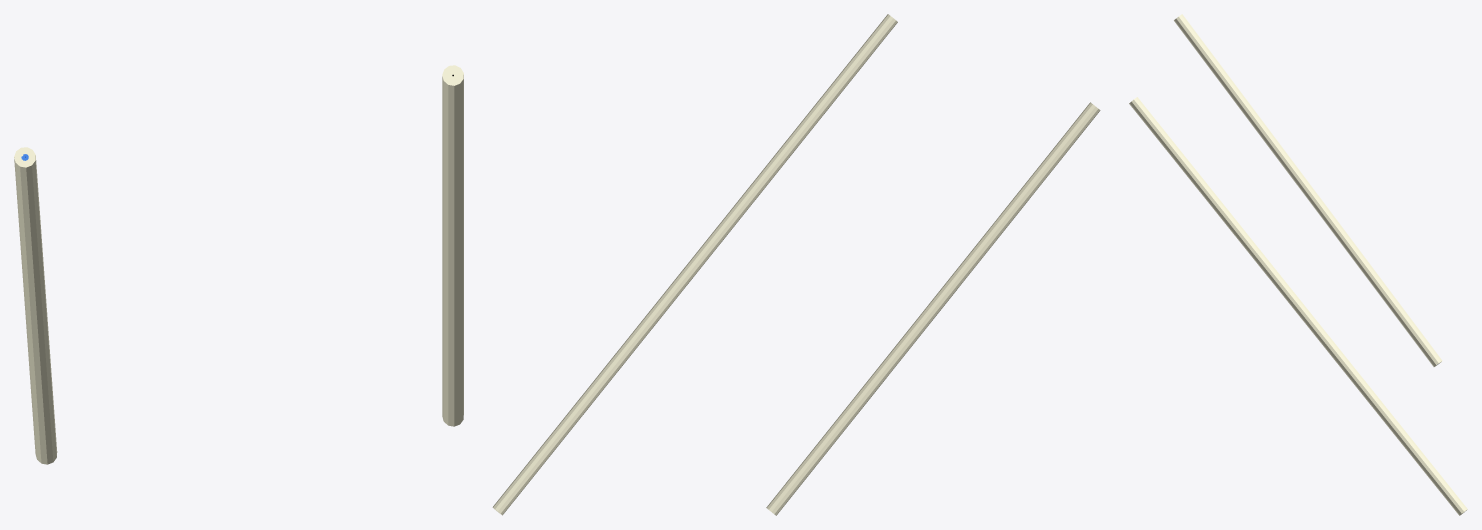
File: tile_210.glb
The picture shows the model from 3 angles, left to right: view 1: azimuth 30°, elevation 25°; view 2: azimuth 150°, elevation 25°; view 3: azimuth 270°, elevation 25°; orthographic projection. The views are drawn at different scales.
Bounding box in the file's own units: 9.58 × 8.48 × 7.69.
